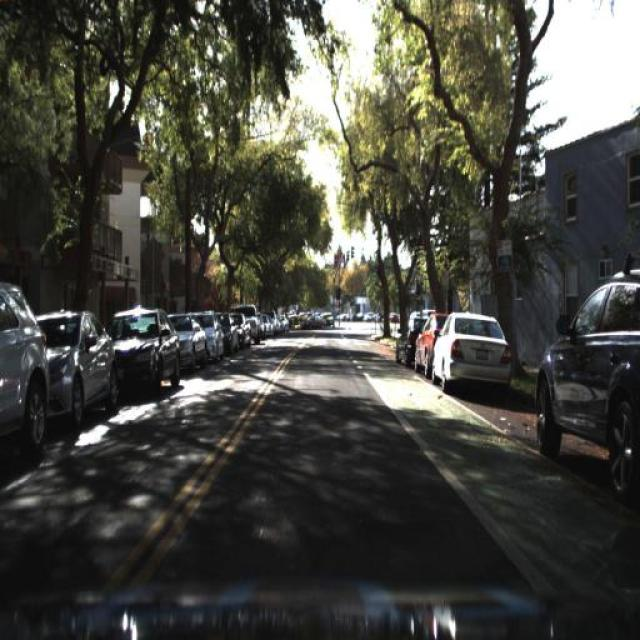car: (535, 267, 640, 493), (22, 303, 118, 426), (106, 304, 186, 395), (431, 306, 510, 392), (414, 304, 448, 384), (169, 313, 209, 367), (395, 311, 427, 370), (235, 300, 261, 346), (217, 306, 239, 356), (205, 313, 226, 365), (230, 309, 254, 352)
